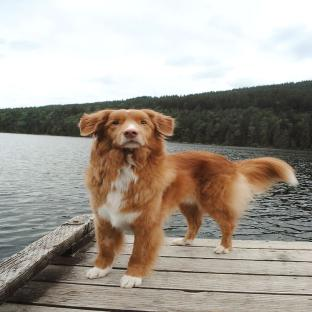Animal: (79, 109, 298, 288)
